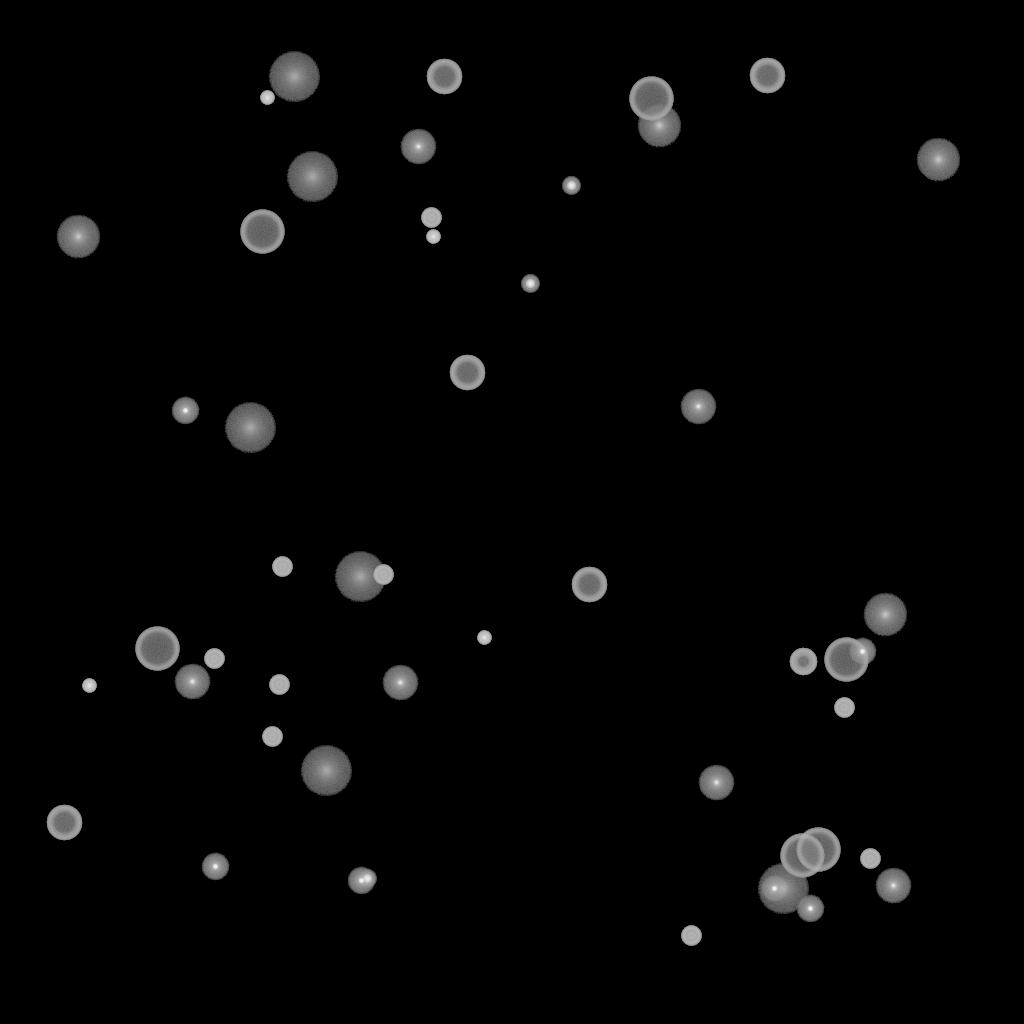depth:-10: (796, 895, 824, 923), (201, 853, 229, 881), (760, 875, 788, 903), (848, 638, 876, 666), (347, 867, 375, 895), (171, 397, 199, 425)
depth:-20: (521, 275, 539, 293), (358, 870, 376, 888), (562, 177, 580, 195)
depth:-30: (426, 230, 440, 244), (82, 679, 96, 693), (260, 91, 274, 105), (477, 631, 491, 645)
depth:-40: (262, 727, 282, 747), (421, 208, 441, 228), (204, 649, 224, 669), (269, 675, 289, 695), (272, 557, 292, 577), (834, 698, 854, 718), (860, 849, 880, 869), (373, 565, 393, 585), (681, 926, 701, 946)
depth:-50: (789, 648, 817, 676)
depth:-60: (449, 355, 485, 391), (749, 58, 785, 94), (571, 567, 607, 603), (46, 805, 82, 841), (426, 59, 462, 95)
depth:-70: (796, 828, 840, 872), (135, 627, 179, 671), (629, 77, 673, 121), (240, 210, 284, 254), (780, 834, 824, 878), (824, 638, 868, 682)
depth:0: (875, 868, 911, 904), (174, 664, 210, 700), (680, 389, 716, 425), (400, 129, 436, 165), (382, 665, 418, 701), (698, 765, 734, 801)
depth:10: (863, 593, 907, 637), (56, 215, 100, 259), (916, 138, 960, 182), (637, 104, 681, 148)
depth:20: (268, 52, 320, 102), (224, 403, 276, 453), (286, 152, 338, 202), (334, 552, 386, 602), (757, 864, 809, 914), (300, 746, 352, 796)
